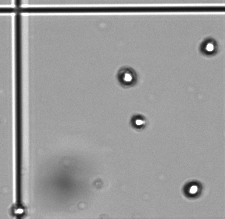Living Cell: (116, 65, 139, 88), (182, 179, 203, 199), (199, 36, 219, 57), (130, 114, 148, 130), (10, 203, 25, 216)
